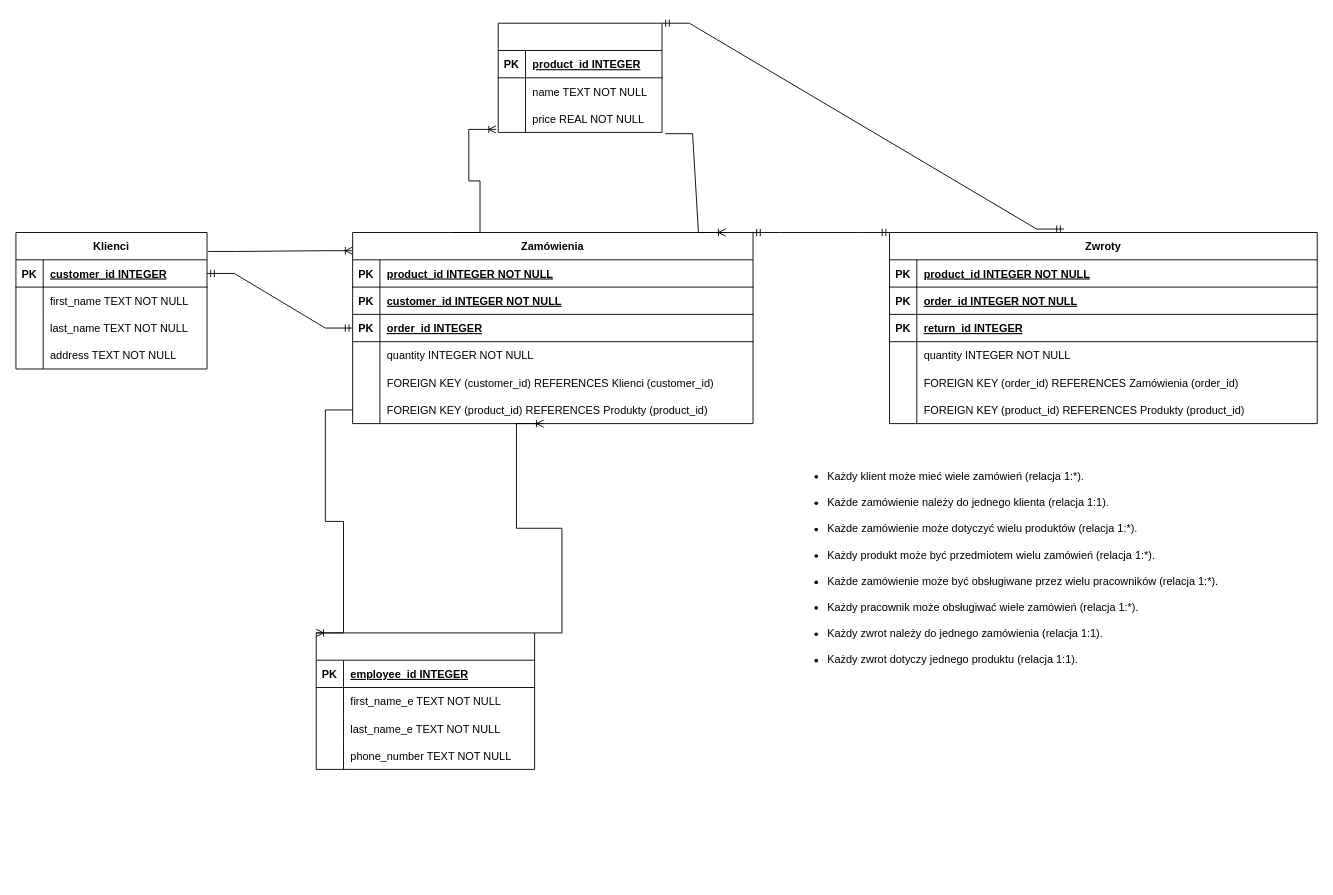
The diagram is 1333 pixels wide and 895 high, and some of its shapes have lost their labels. Each missing label, with the box of its shape:
Pracownicy: (315, 632, 535, 769)
Produkty: (497, 22, 662, 132)
